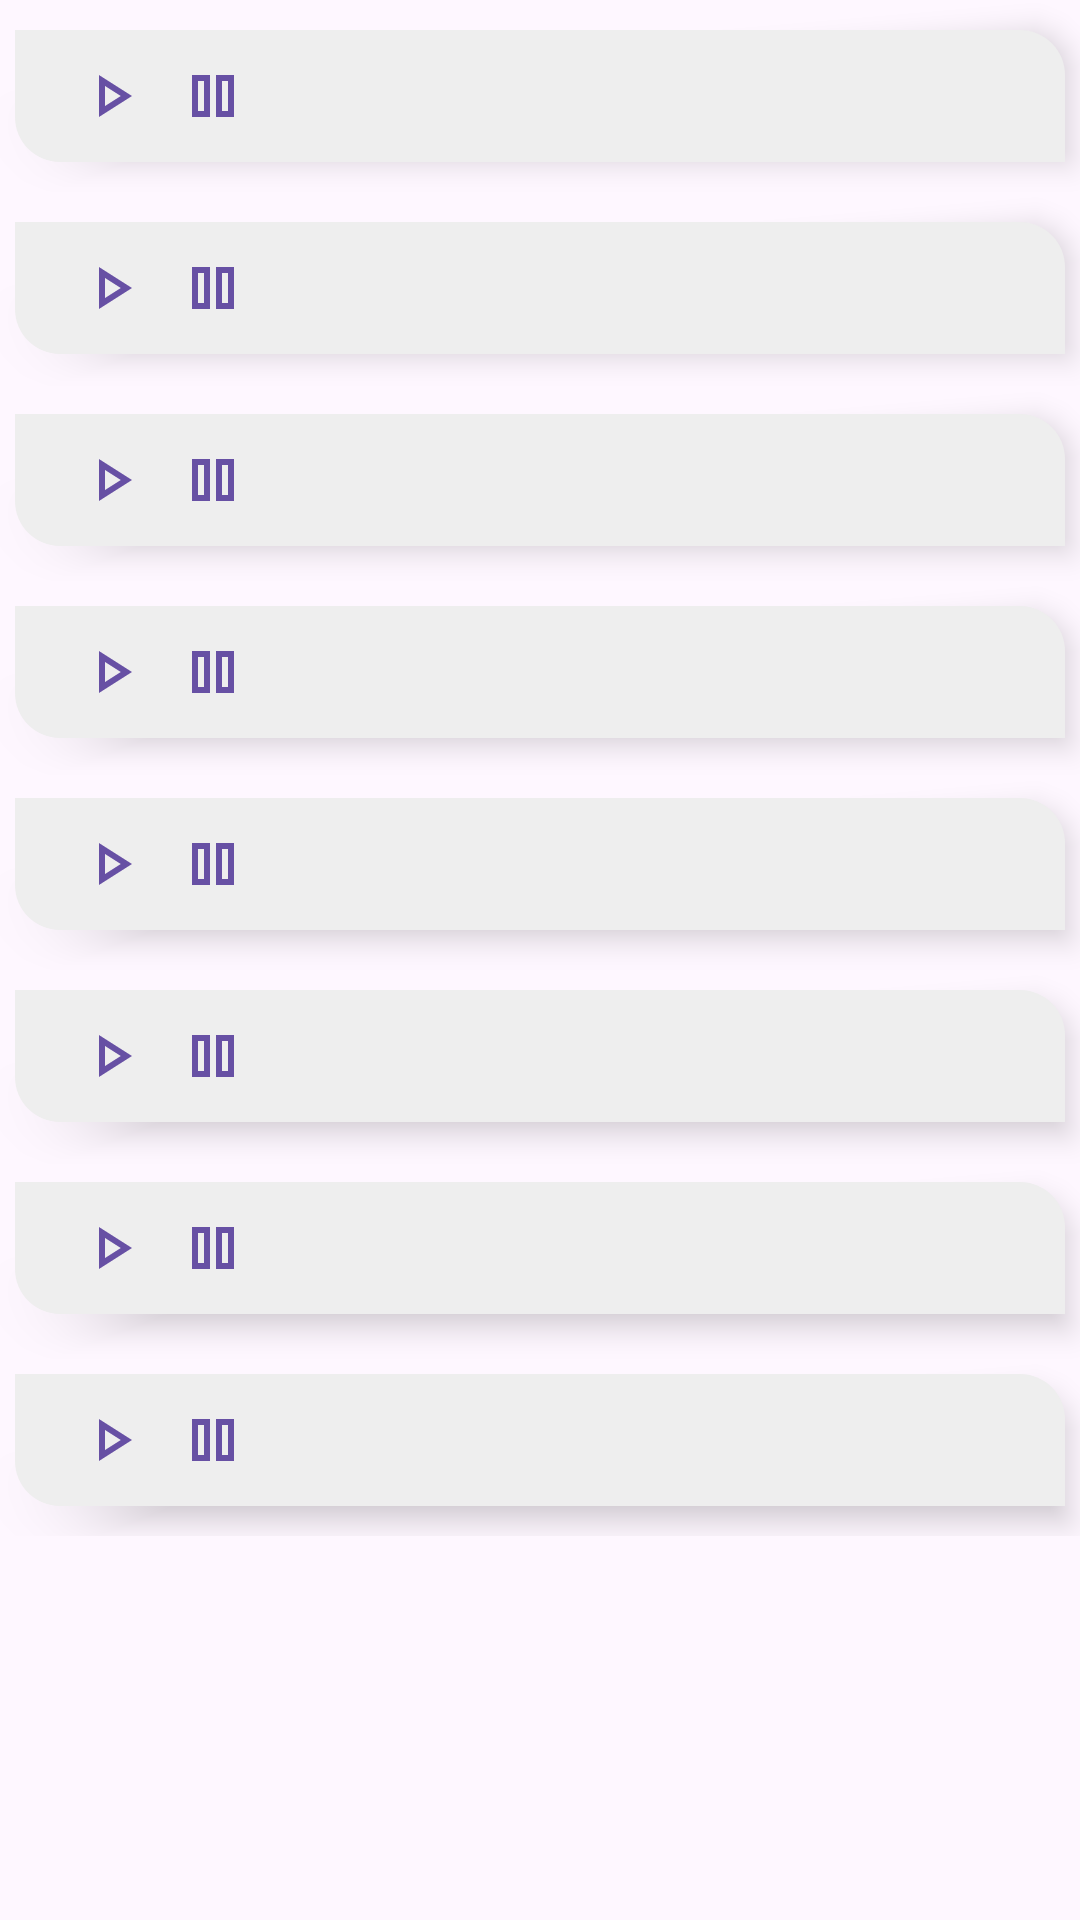

Screen size 1080px x 1920px. Icon name, then its box in pixels as (x1, y1, x2, y2):
pause music: (192, 75, 234, 117), (192, 267, 234, 309), (192, 459, 234, 501), (192, 651, 234, 693), (192, 843, 234, 885), (192, 1035, 234, 1077), (192, 1227, 234, 1269), (192, 1419, 234, 1461)
play music: (99, 75, 132, 117), (99, 267, 132, 309), (99, 459, 132, 501), (99, 651, 132, 693), (99, 843, 132, 885), (99, 1035, 132, 1077), (99, 1227, 132, 1269), (99, 1419, 132, 1461)
